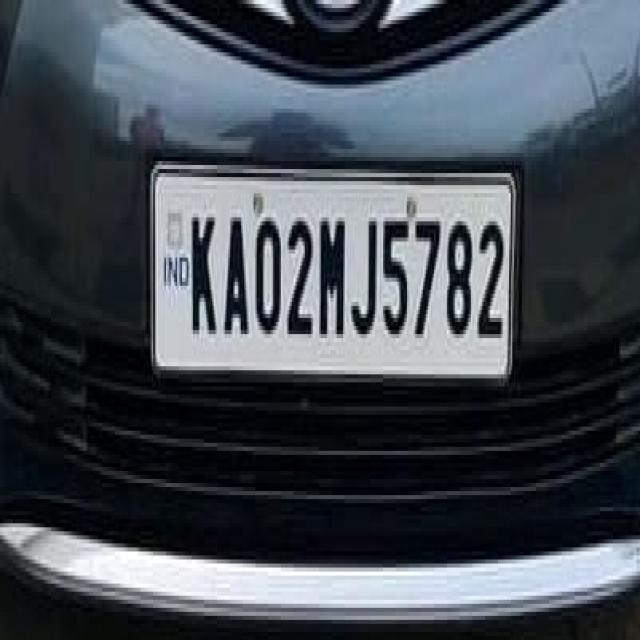0: (253, 214, 284, 336)
5: (381, 202, 414, 351)
7: (412, 212, 444, 346)
8: (444, 204, 476, 348)
A: (221, 208, 254, 356)
J: (349, 212, 381, 346)
K: (189, 204, 219, 346)
M: (317, 210, 348, 350)
